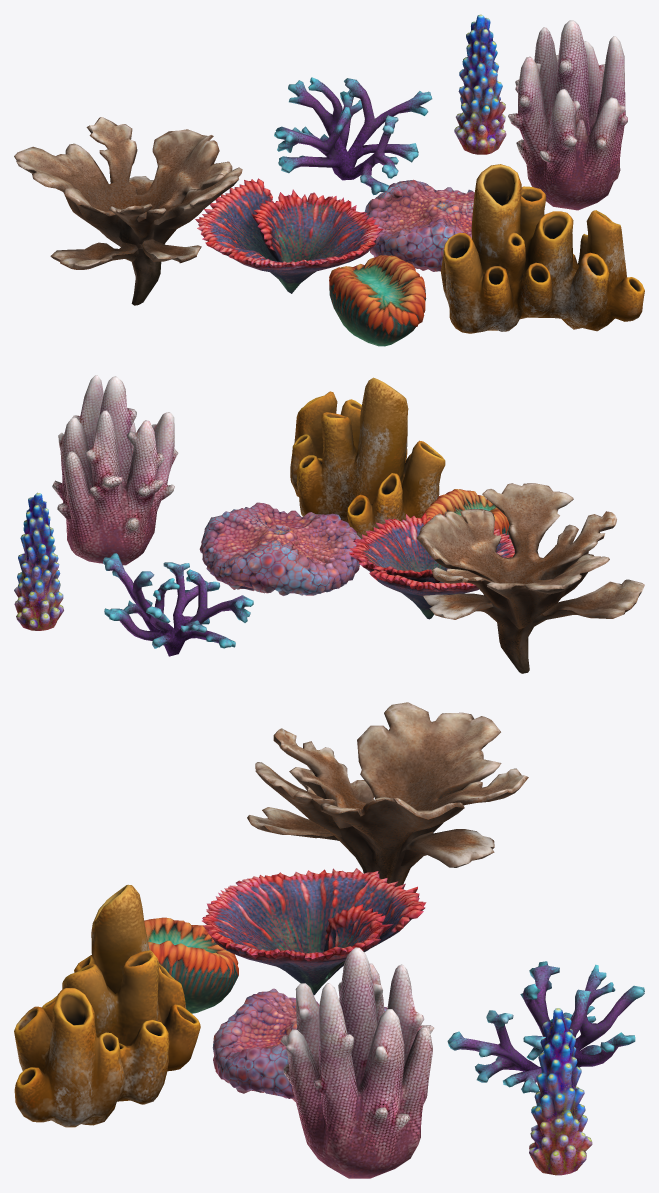
File: Coral4_3.fbx
3 views of the same model, one above another, from view 1: azimuth 30°, elevation 25°; view 2: azimuth 150°, elevation 25°; view 3: azimuth 270°, elevation 25° (orthographic). The views are drawn at different scales.
Parts seen in each view (by area): view 1: Coral_15_2, Coral5_1, Coral_16_1, Coral7_2, Coral_13_1, Coral4_1, Coral6_1, Coral1_1; view 2: Coral5_1, Coral_15_2, Coral_16_1, Coral4_1, Coral_13_1, Coral7_2, Coral1_1, Coral6_1; view 3: Coral5_1, Coral_15_2, Coral_16_1, Coral7_2, Coral_13_1, Coral1_1, Coral4_1, Coral6_1.
Boxes of the visible parts, x1,y1,x2,y2 form: Coral_15_2: [440, 164, 644, 333]; Coral5_1: [14, 117, 242, 305]; Coral_16_1: [508, 20, 627, 210]; Coral7_2: [195, 178, 383, 293]; Coral_13_1: [274, 77, 432, 195]; Coral4_1: [364, 179, 474, 271]; Coral6_1: [329, 255, 426, 346]; Coral1_1: [454, 14, 506, 154]; Coral5_1: [416, 483, 644, 673]; Coral_15_2: [290, 377, 445, 538]; Coral_16_1: [52, 375, 178, 565]; Coral4_1: [199, 502, 360, 595]; Coral_13_1: [103, 553, 253, 656]; Coral7_2: [349, 513, 514, 619]; Coral1_1: [14, 492, 63, 630]; Coral6_1: [422, 489, 510, 538]; Coral5_1: [247, 702, 528, 886]; Coral_15_2: [14, 884, 200, 1127]; Coral_16_1: [280, 947, 434, 1178]; Coral7_2: [202, 868, 426, 995]; Coral_13_1: [447, 961, 644, 1093]; Coral1_1: [529, 1008, 592, 1175]; Coral4_1: [212, 988, 387, 1101]; Coral6_1: [144, 917, 238, 1013].
Size of the model in its own units: 2407 by 800 by 1936.
